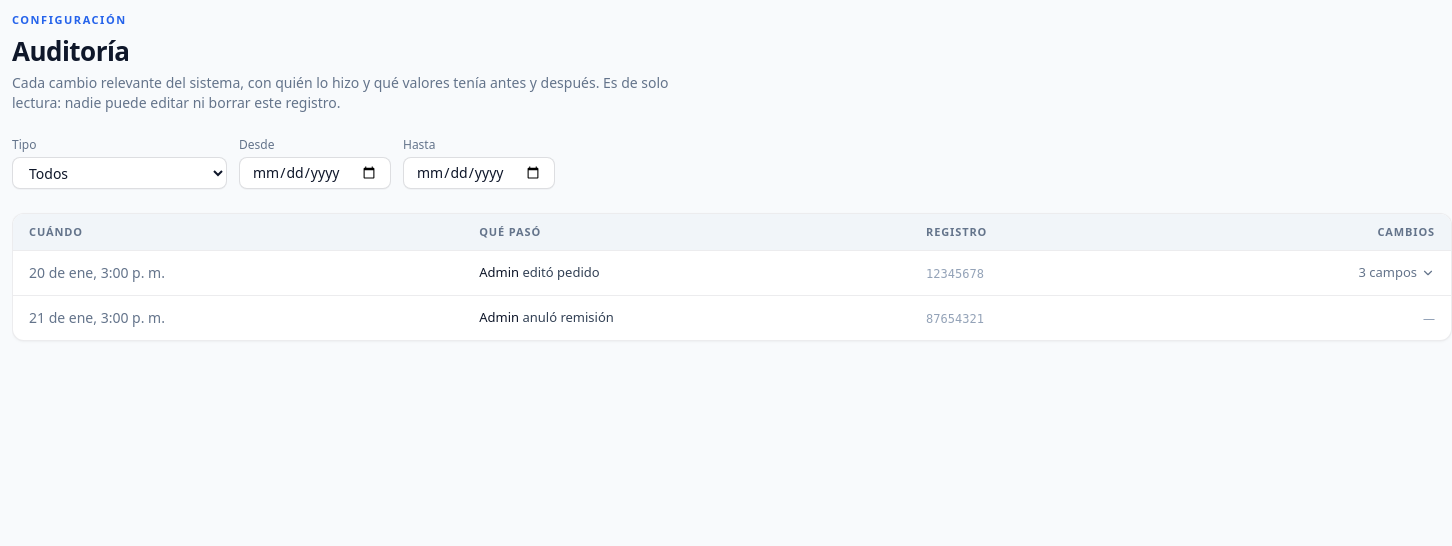
AuditPage › expands an entry to show only the fields that changed
Click the button "3 campos" at (1397, 273), box [1358,263,1435,282]
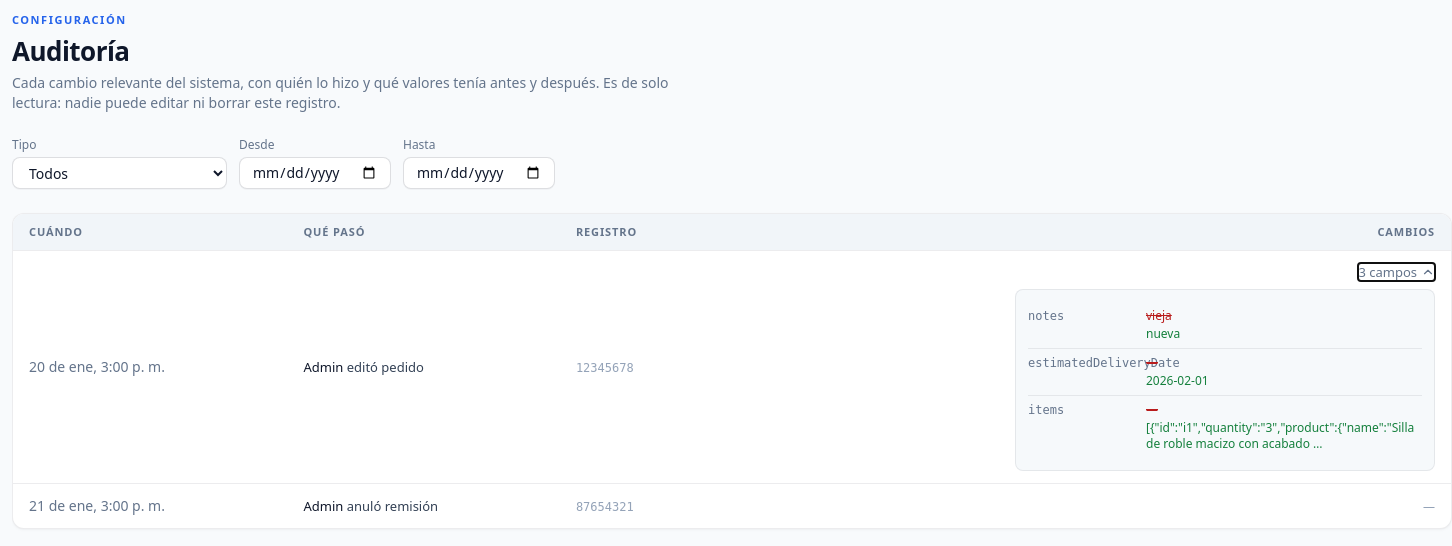
Result: the text "vieja" is shown at [1146,307,1172,324]
Result: the text "nueva" is shown at [1146,325,1180,342]
Result: the text "…" is shown at [1146,420,1422,452]
